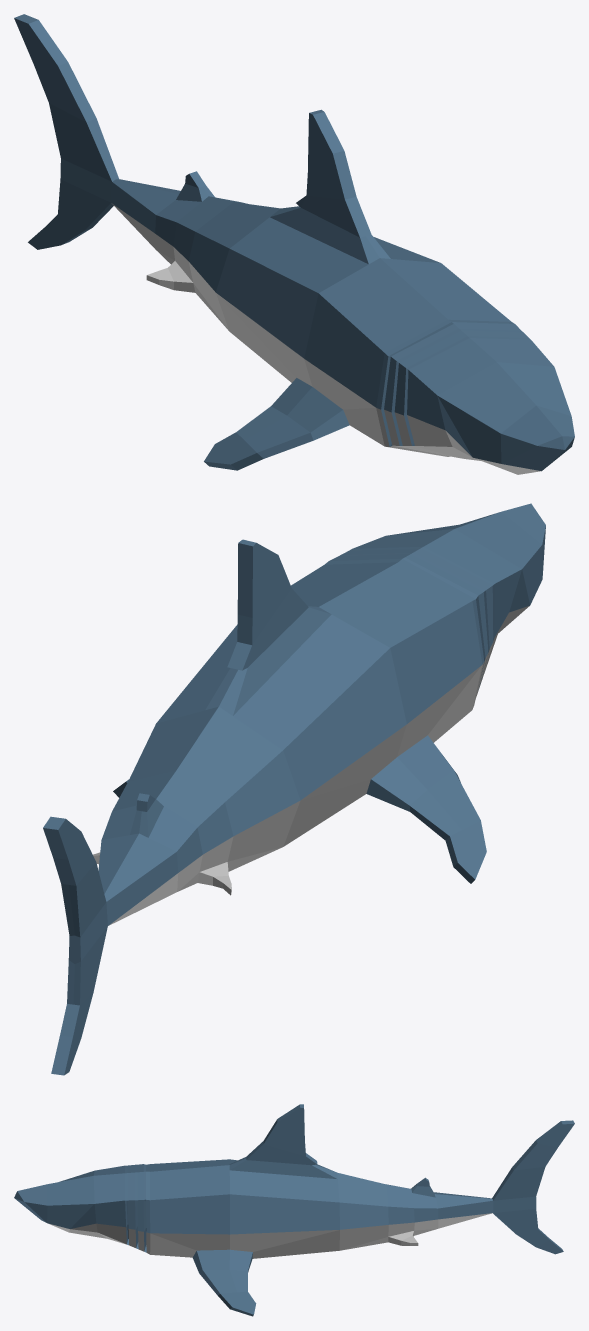
Rendered from shark.glb.
3 renders of one model, top to bottom at view 1: azimuth 30°, elevation 25°; view 2: azimuth 150°, elevation 25°; view 3: azimuth 270°, elevation 25°, orthographic. The views are drawn at different scales.
Parts seen in each view (by area): view 1: Shark_Cylinder; view 2: Shark_Cylinder; view 3: Shark_Cylinder.
Part boxes in pixels (box(x1,y1,x2,y2)): Shark_Cylinder: box(14, 14, 574, 474); Shark_Cylinder: box(43, 503, 545, 1075); Shark_Cylinder: box(14, 1104, 574, 1316).
Bounding box in the file's own units: 5.88 × 5.19 × 15.77.
